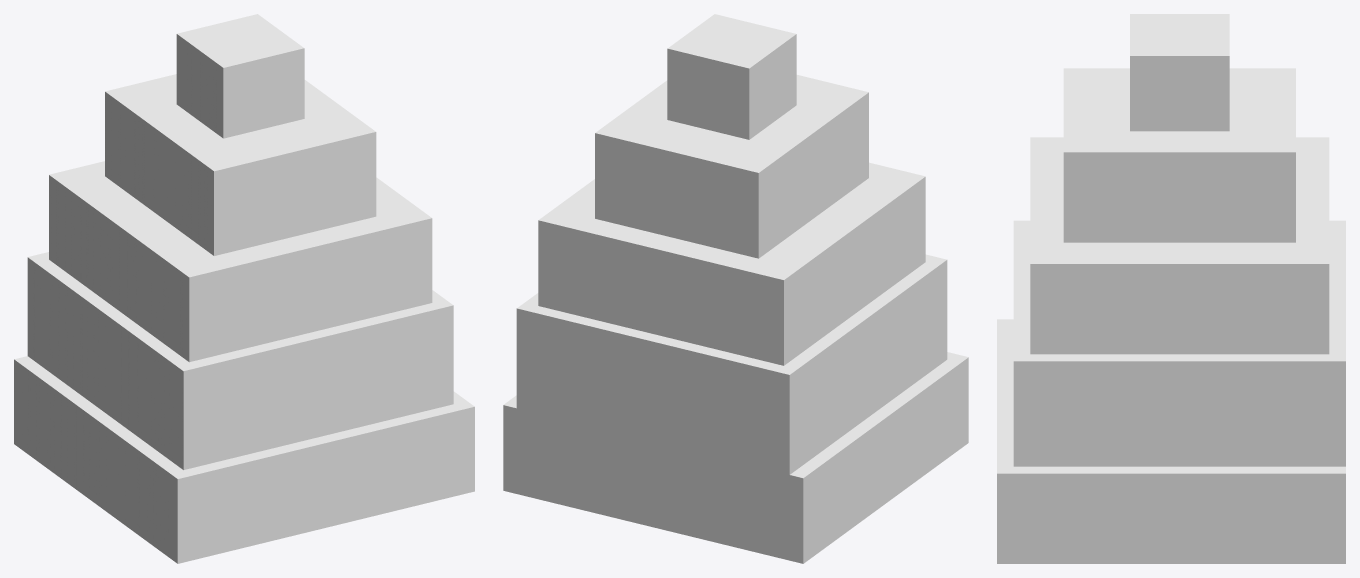
The model's file is Spikes.gltf.
3 views of the same model, side by side, from view 1: azimuth 30°, elevation 25°; view 2: azimuth 150°, elevation 25°; view 3: azimuth 270°, elevation 25° (orthographic). The views are drawn at different scales.
Visible parts, largest first — view 1: Layer.1; view 2: Layer.1; view 3: Layer.1.
Boxes of the visible parts, left/top/right/bottom form: Layer.1: left=14, top=14, right=474, bottom=563; Layer.1: left=503, top=14, right=968, bottom=563; Layer.1: left=997, top=14, right=1345, bottom=563.
Bounding box in the file's own units: 22 × 30 × 21.
1 material, 1 textured.
